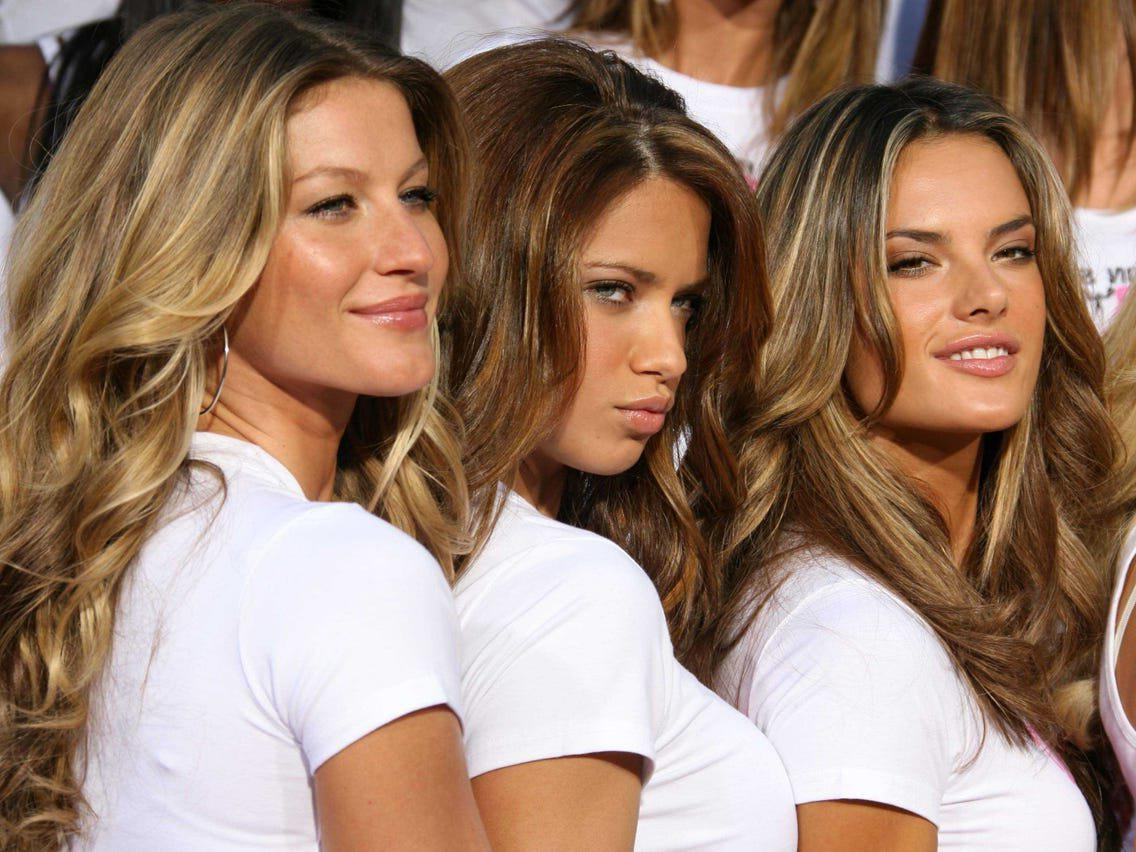Sober: (253, 96, 447, 384), (877, 144, 1047, 424), (549, 184, 708, 461)
